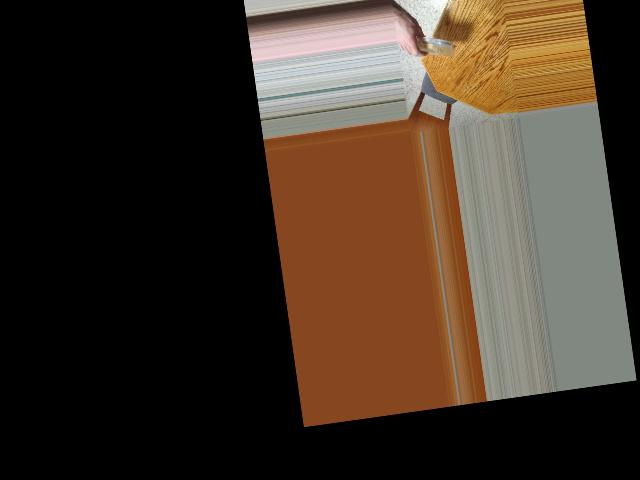cheese: (415, 31, 451, 63)
